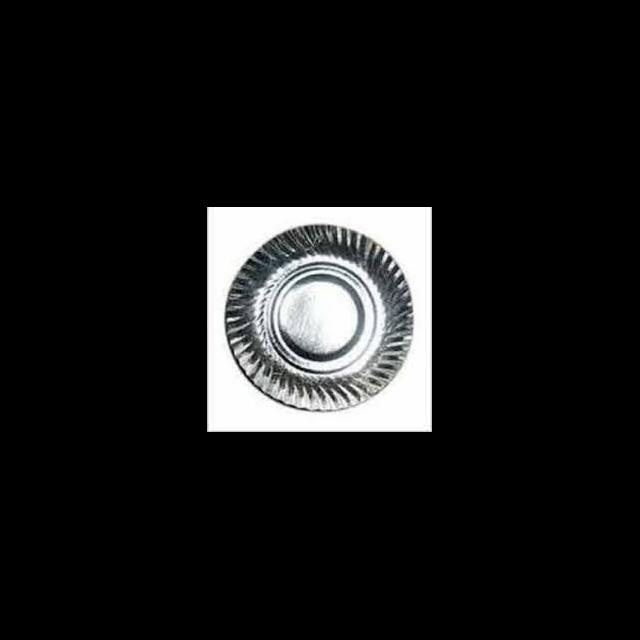metal: (224, 224, 414, 412)
